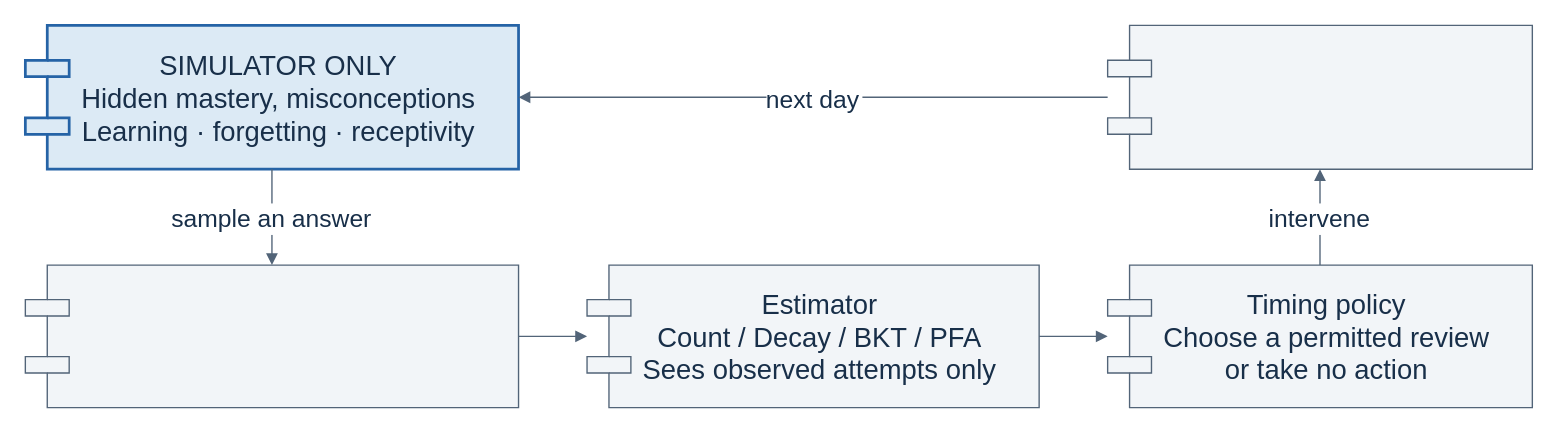
The diagram is 1556 pixels wide and 432 high, and some of its shapes have lost their labels. Here are the shapes that lost their labels. From the top down, the centre of each, then its label:
At point 1319,96: "Simulated reaction Practice, ignore, or delay Update hidden state".
At point 271,336: "Observed attempt Concept + correct / incorrect Guess and slip add uncertainty".
